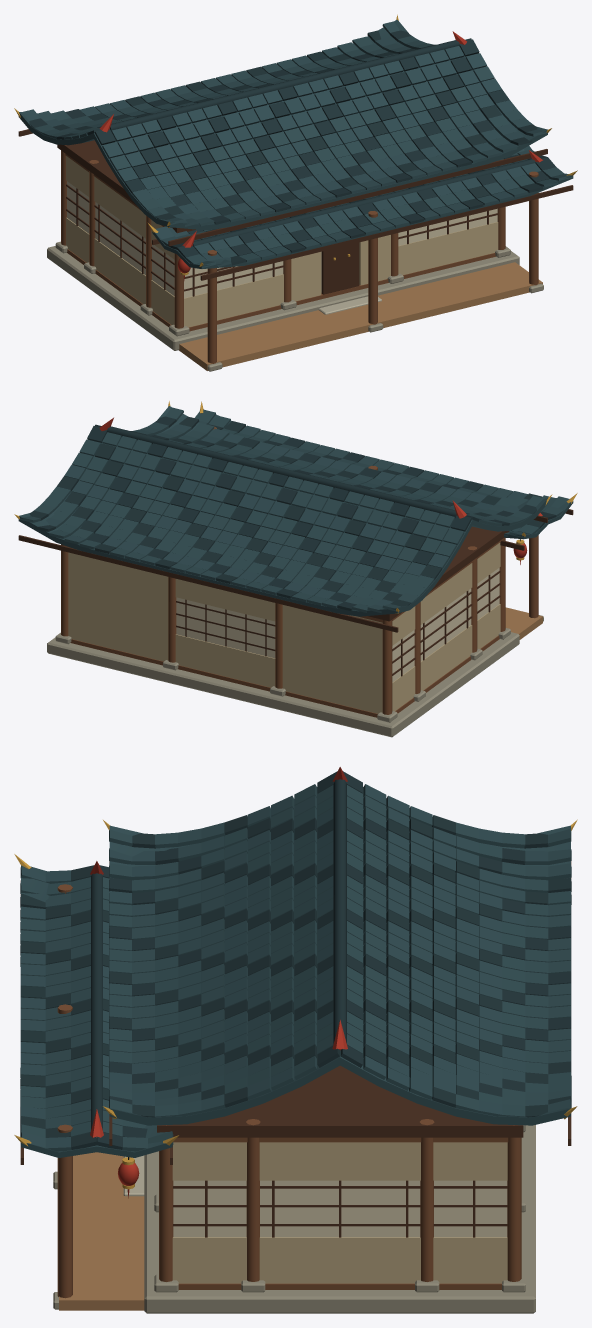
The model's file is house_long.glb.
3 views of the same model, one above another, from view 1: azimuth 30°, elevation 25°; view 2: azimuth 150°, elevation 25°; view 3: azimuth 270°, elevation 25° (orthographic). The views are drawn at different scales.
Parts seen in each view (by area): view 1: HouseLong; view 2: HouseLong; view 3: HouseLong.
Boxes of the visible parts, x1,y1,x2,y2 form: HouseLong: [14, 14, 577, 371]; HouseLong: [14, 401, 577, 737]; HouseLong: [14, 767, 577, 1313].
Size of what is drawn, in the model's own units: 10.73 by 5.18 by 8.92.
